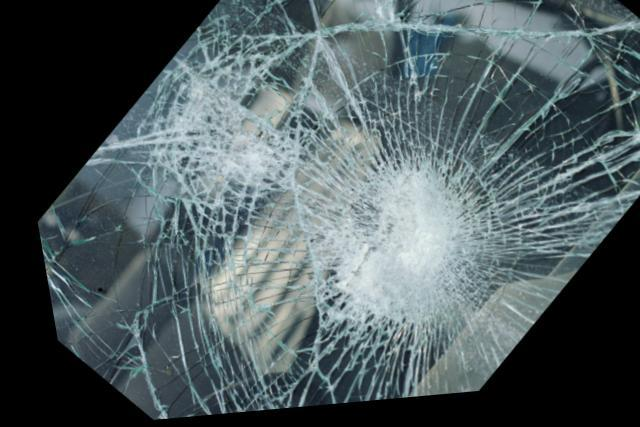glass shatter: (30, 0, 640, 421)
